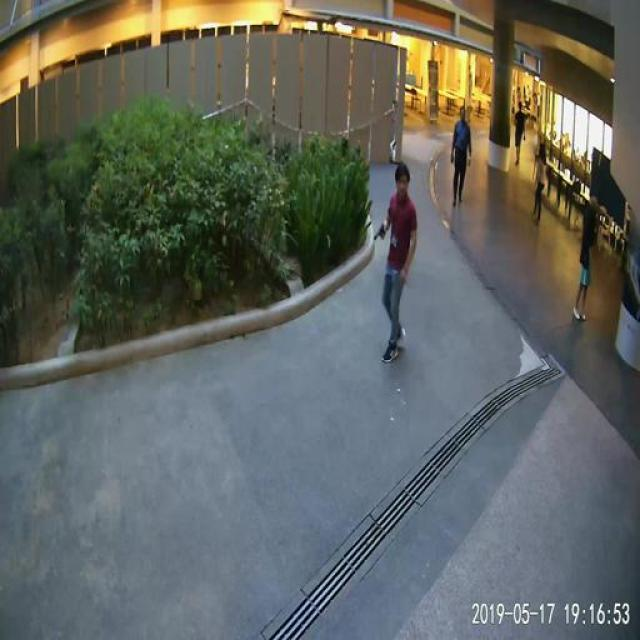Gun: (363, 217, 391, 251)
